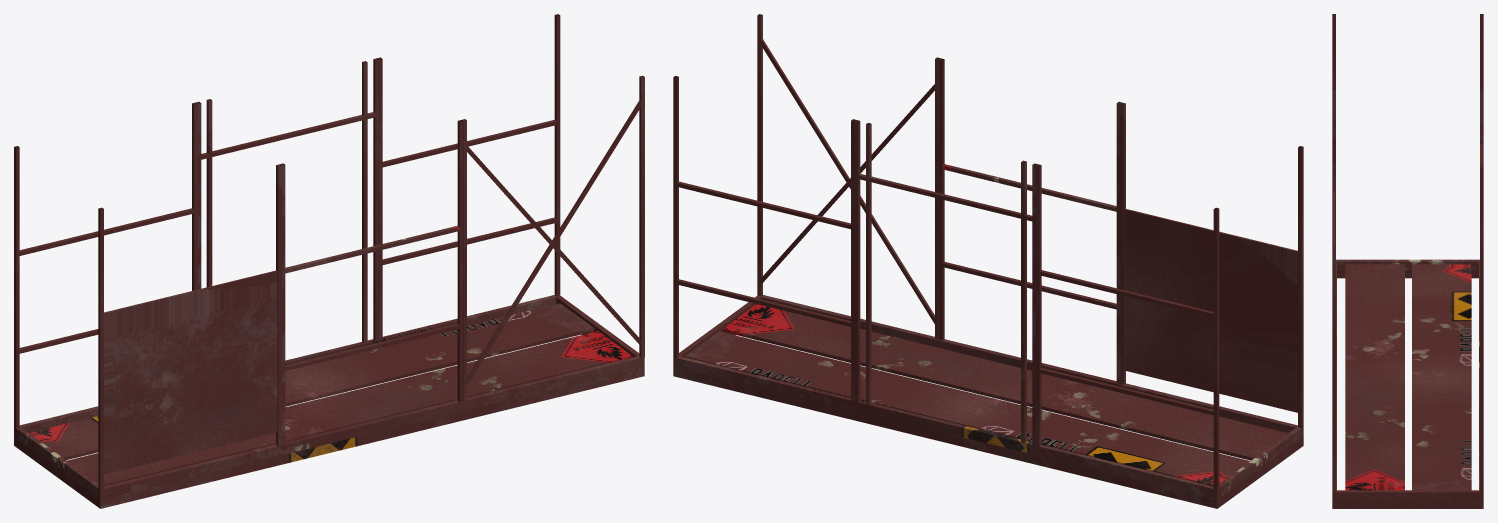
The model's file is CS_scaffolding_03.FBX.
The picture shows the model from 3 angles, left to right: view 1: azimuth 30°, elevation 25°; view 2: azimuth 150°, elevation 25°; view 3: azimuth 270°, elevation 25°; orthographic projection. The views are drawn at different scales.
Visible parts, largest first — view 1: SM_scaffolding_03; view 2: SM_scaffolding_03; view 3: SM_scaffolding_03.
Boxes of the visible parts, left/top/right/bottom form: SM_scaffolding_03: left=14, top=14, right=644, bottom=508; SM_scaffolding_03: left=673, top=14, right=1303, bottom=508; SM_scaffolding_03: left=1332, top=14, right=1483, bottom=508.
Bounding box in the file's own units: 600 × 165 × 315.
